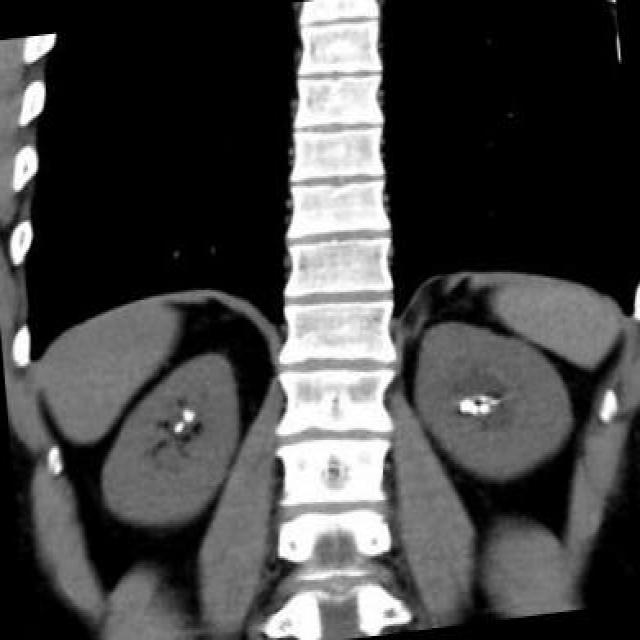Tas_Var: (457, 394, 478, 420), (179, 403, 197, 423), (473, 402, 491, 418), (170, 418, 185, 434), (476, 392, 488, 402), (486, 397, 498, 407)
